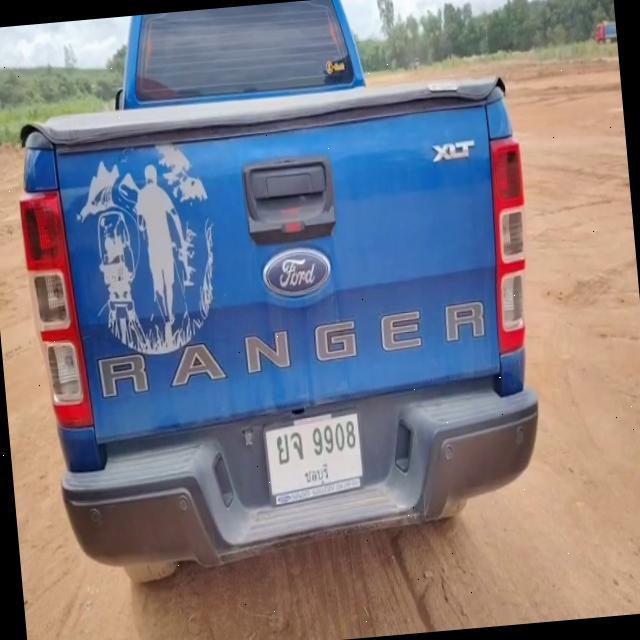Digit: (310, 418, 358, 460)
Licenseplate: (260, 408, 369, 503)
Provincename: (302, 461, 332, 486)
Thaichar: (275, 427, 305, 468)
